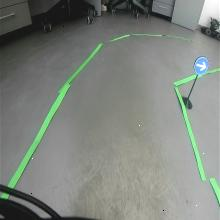right: (193, 56, 209, 76)
